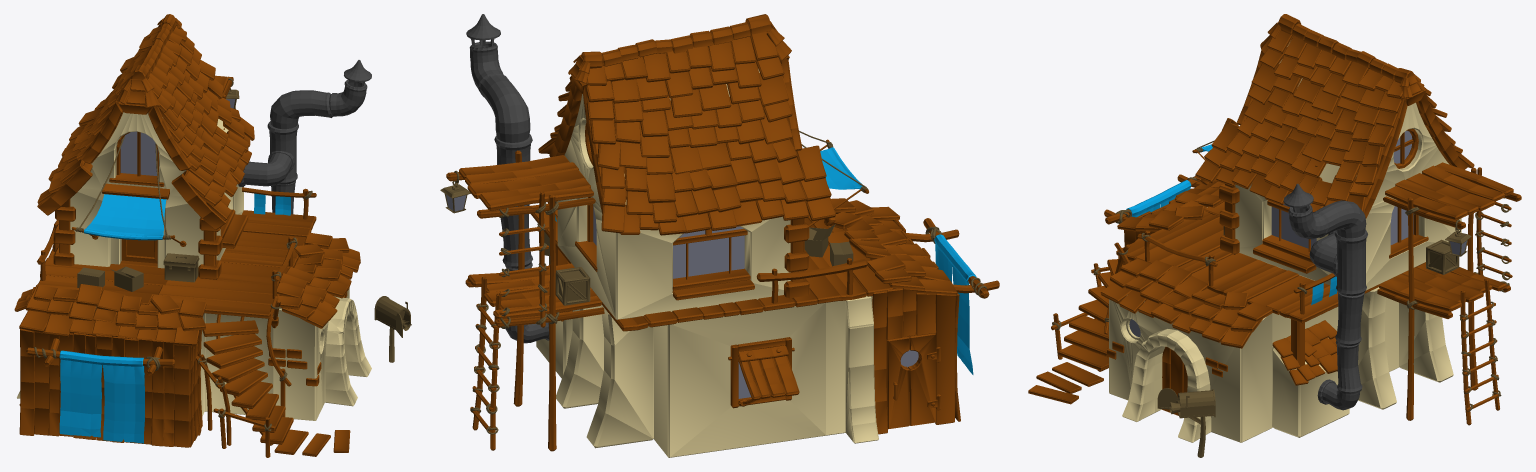
Rendered from House3.fbx.
3 views of the same model, side by side, from view 1: azimuth 30°, elevation 25°; view 2: azimuth 150°, elevation 25°; view 3: azimuth 270°, elevation 25° (orthographic). The views are drawn at different scales.
Parts seen in each view (by area): view 1: house3; view 2: house3; view 3: house3.
Boxes of the visible parts, bbox=[...] form: house3: bbox=[14, 14, 411, 457]; house3: bbox=[440, 14, 999, 457]; house3: bbox=[1028, 14, 1521, 457].
Bounding box in the file's own units: 295 × 233 × 310.
